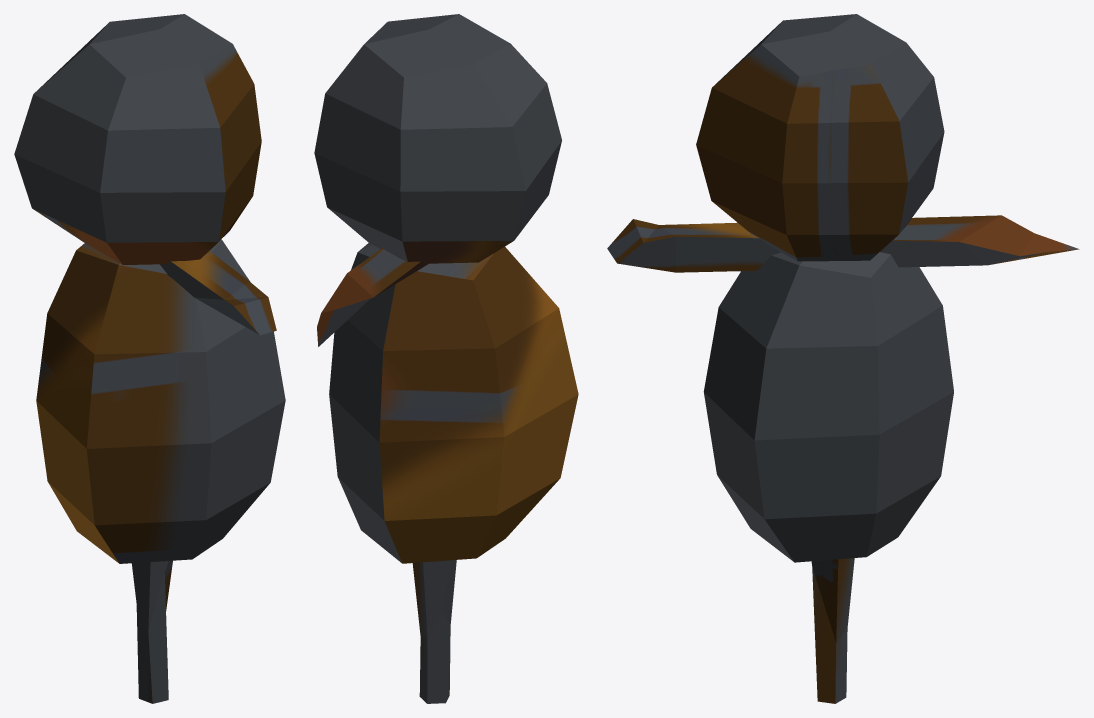
Rendered from Scaresrow.obj.
3 renders of one model, left to right at view 1: azimuth 30°, elevation 25°; view 2: azimuth 150°, elevation 25°; view 3: azimuth 270°, elevation 25°, orthographic.
Parts seen in each view (by area): view 1: Cube.001; view 2: Cube.001; view 3: Cube.001.
Part boxes in pixels (x1,y1,x2,y2): Cube.001: (14, 14, 285, 703); Cube.001: (314, 14, 578, 703); Cube.001: (607, 14, 1079, 703).
Bounding box in the file's own units: 1.75 × 5.34 × 3.42.
